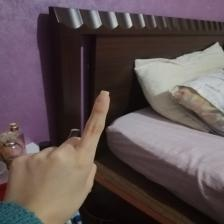one: (10, 92, 114, 214)
